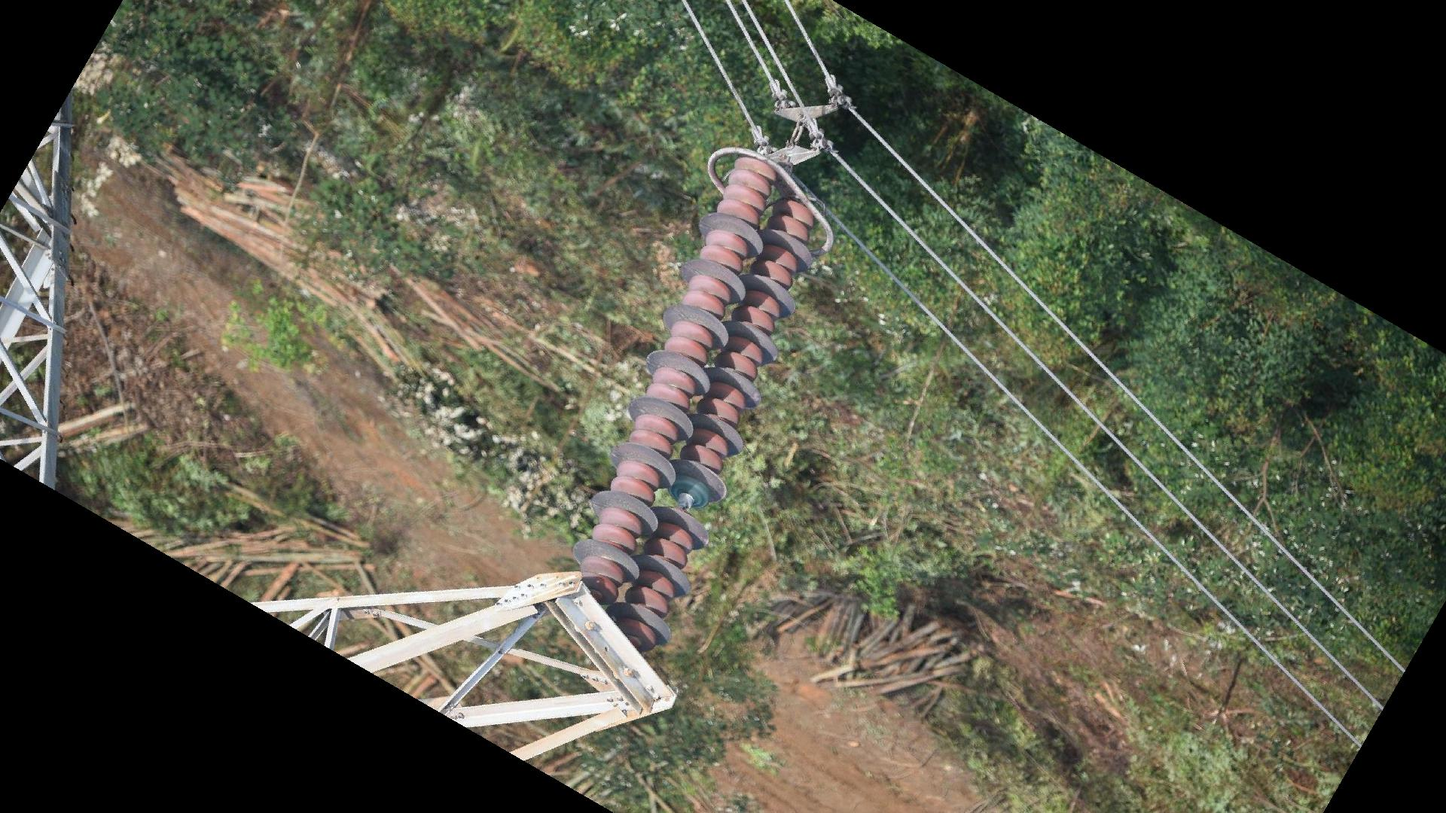insulator: (573, 150, 825, 652)
insulator_stringdrop: (658, 473, 713, 537)
